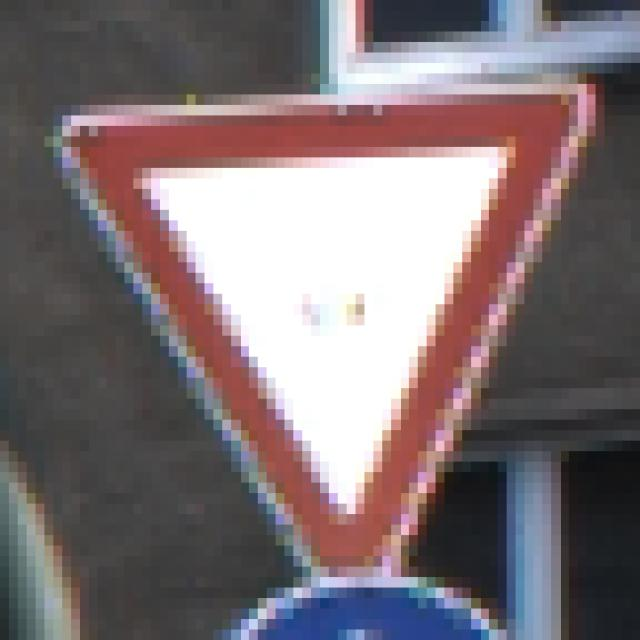Give Way: (54, 64, 588, 588)
